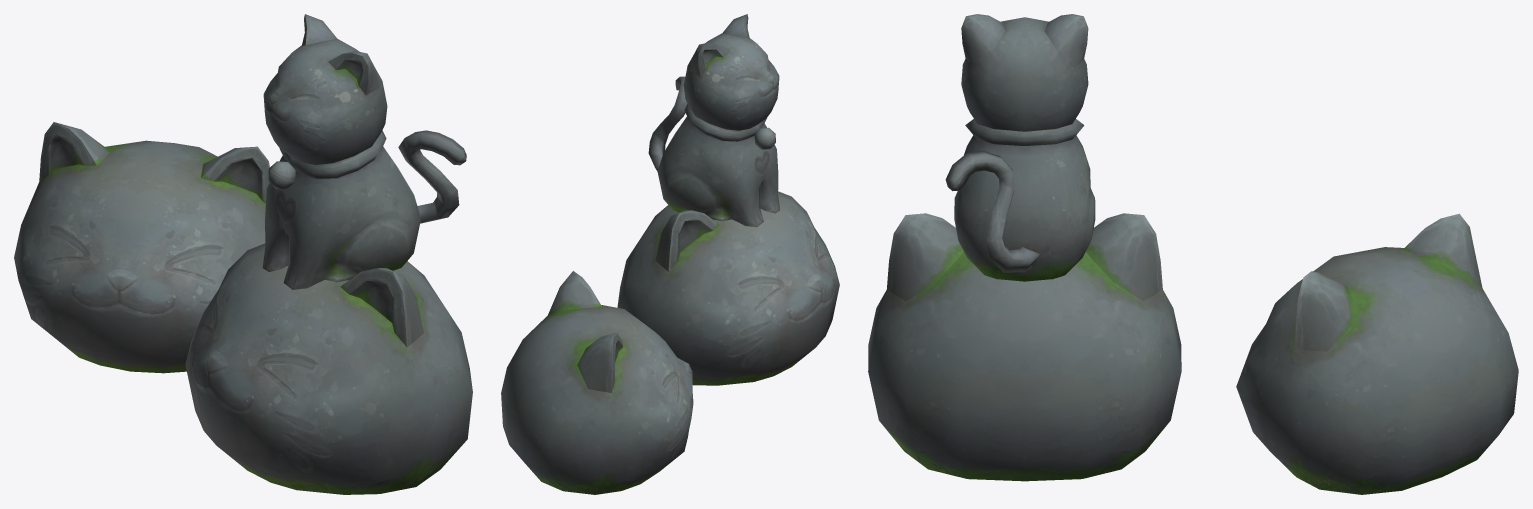
File: Homeworld_Exterior_Dq_Build_Decoration_Sakura_01_B_Vo.fbx
3 renders of one model, left to right at view 1: azimuth 30°, elevation 25°; view 2: azimuth 150°, elevation 25°; view 3: azimuth 270°, elevation 25°, orthographic. The views are drawn at different scales.
Parts seen in each view (by area): view 1: Homeworld_Exterior_Dq_Build_Decoration_Sakura_01_B_Vo; view 2: Homeworld_Exterior_Dq_Build_Decoration_Sakura_01_B_Vo; view 3: Homeworld_Exterior_Dq_Build_Decoration_Sakura_01_B_Vo.
Boxes of the visible parts, <box> form: Homeworld_Exterior_Dq_Build_Decoration_Sakura_01_B_Vo: <box>14,14,472,494</box>; Homeworld_Exterior_Dq_Build_Decoration_Sakura_01_B_Vo: <box>501,14,839,494</box>; Homeworld_Exterior_Dq_Build_Decoration_Sakura_01_B_Vo: <box>868,14,1518,494</box>.
Size of the model in its own units: 0.9471 by 1.62 by 2.19.
